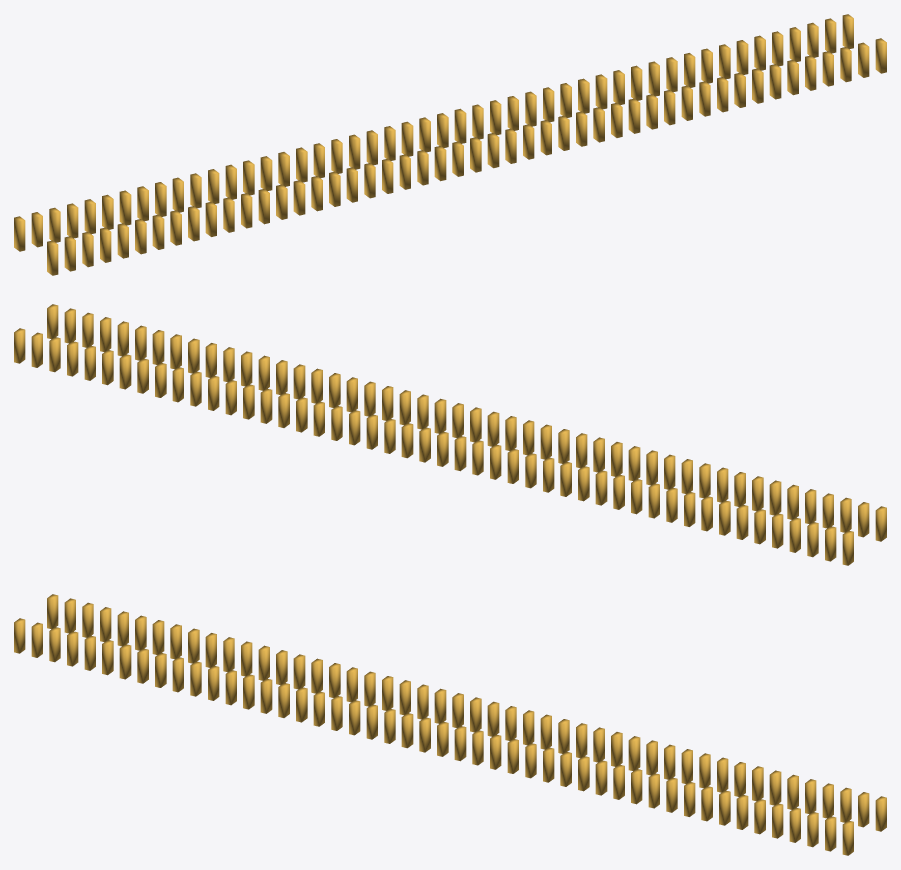
Rendered from 113_L105_PCIe_SpringContacts.fbx.
The picture shows the model from 3 angles, top to bottom: view 1: azimuth 30°, elevation 25°; view 2: azimuth 150°, elevation 25°; view 3: azimuth 330°, elevation 25°; orthographic projection.
Parts seen in each view (by area): view 1: PCIe_SpringContacts_gold; view 2: PCIe_SpringContacts_gold; view 3: PCIe_SpringContacts_gold.
Part boxes in pixels (box(x1,y1,x2,y2)): PCIe_SpringContacts_gold: box(14, 14, 886, 275); PCIe_SpringContacts_gold: box(14, 304, 886, 565); PCIe_SpringContacts_gold: box(14, 594, 886, 855).
Bounding box in the file's own units: 0.0584 × 0.002 × 0.0047.
